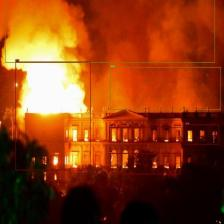fire: (16, 62, 90, 170), (108, 153, 181, 174), (108, 127, 182, 143), (185, 124, 219, 145)
smoke: (5, 0, 215, 63), (110, 67, 221, 110)
